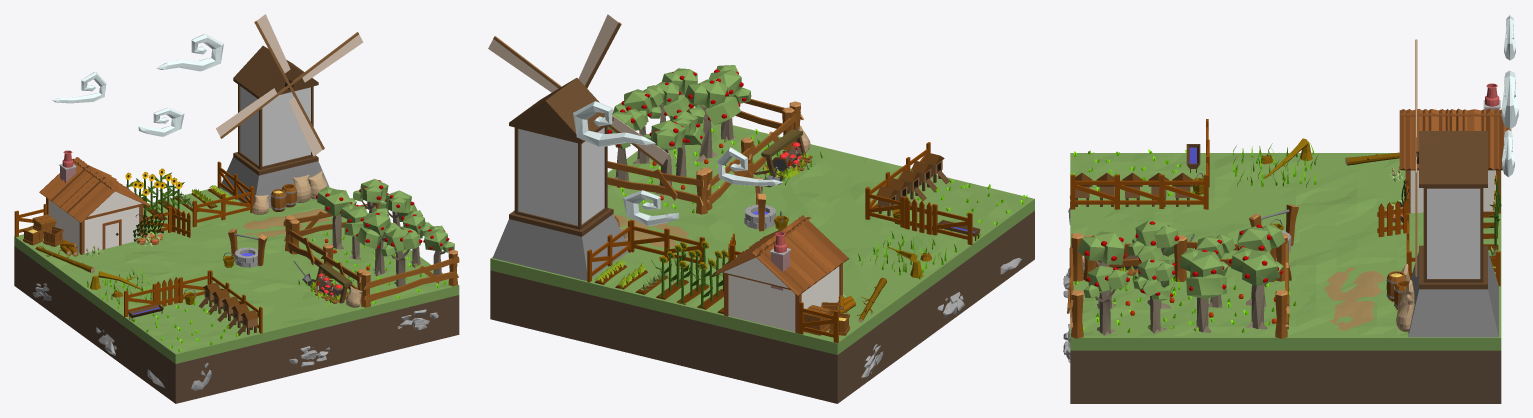
Rendered from Farm.fbx.
The picture shows the model from 3 angles, left to right: view 1: azimuth 30°, elevation 25°; view 2: azimuth 150°, elevation 25°; view 3: azimuth 270°, elevation 25°; orthographic projection. The views are drawn at different scales.
Parts seen in each view (by area): view 1: Cube, Cube (1), Terrain_Plane_Rock_Uneven_01, Building_Windmill_Tower_01, Building_Modular_Jetty_Walkway_Timber_Hut_Roof_02, Building_Windmill_Blades_Sails_01, Building_Modular_Jetty_Walkway_Timber_Hut_Base_01, Prop_Fence_Wooden_Large_01, Vegetation_Tree_Apple_03 (2), Vegetation_Tree_Apple_01 (5), Cloud_Wisp_02, Vegetation_Tree_Apple_01 (4) (+20 smaller); view 2: Cube, Cube (1), Terrain_Plane_Rock_Uneven_01, Building_Windmill_Tower_01, Building_Modular_Jetty_Walkway_Timber_Hut_Roof_02, Building_Modular_Jetty_Walkway_Timber_Hut_Base_01, Building_Windmill_Blades_Sails_01, Vegetation_Tree_Apple_03 (2), Prop_Fence_Wooden_Large_01 (1), Cloud_Wisp_02, Prop_Farm_Plot_01, Vegetation_Tree_Apple_01 (5) (+22 smaller); view 3: Terrain_Plane_Rock_Uneven_01, Cube, Cube (1), Building_Windmill_Tower_01, Building_Modular_Jetty_Walkway_Timber_Hut_Roof_02, Vegetation_Tree_Apple_02 (1), Terrain_Plane_Dirt_Uneven_01, Vegetation_Tree_Apple_01 (3), Vegetation_Tree_Apple_03 (2), Vegetation_Tree_Apple_03 (1), Vegetation_Tree_Apple_01 (2), Vegetation_Tree_Apple_01 (5) (+19 smaller).
Boxes of the visible parts, box(x1,y1,x2,y2) form: Cube: box(14, 246, 459, 403); Cube (1): box(14, 187, 459, 363); Terrain_Plane_Rock_Uneven_01: box(18, 190, 451, 353); Building_Windmill_Tower_01: box(221, 45, 329, 207); Building_Modular_Jetty_Walkway_Timber_Hut_Roof_02: box(39, 157, 149, 222); Building_Windmill_Blades_Sails_01: box(216, 14, 363, 156); Building_Modular_Jetty_Walkway_Timber_Hut_Base_01: box(46, 198, 143, 254); Prop_Fence_Wooden_Large_01: box(361, 250, 459, 307); Vegetation_Tree_Apple_03 (2): box(356, 208, 400, 276); Vegetation_Tree_Apple_01 (5): box(381, 228, 422, 287); Cloud_Wisp_02: box(156, 34, 223, 71); Vegetation_Tree_Apple_01 (4): box(316, 186, 356, 249); Cube: box(490, 211, 1034, 403); Cube (1): box(490, 125, 1034, 354); Terrain_Plane_Rock_Uneven_01: box(509, 119, 1031, 340); Building_Windmill_Tower_01: box(492, 78, 628, 280); Building_Modular_Jetty_Walkway_Timber_Hut_Roof_02: box(714, 215, 848, 295); Building_Modular_Jetty_Walkway_Timber_Hut_Base_01: box(724, 263, 842, 333); Building_Windmill_Blades_Sails_01: box(488, 14, 668, 166); Vegetation_Tree_Apple_03 (2): box(685, 79, 740, 161); Prop_Fence_Wooden_Large_01 (1): box(607, 161, 707, 214); Cloud_Wisp_02: box(573, 101, 655, 146); Prop_Farm_Plot_01: box(595, 264, 723, 314); Vegetation_Tree_Apple_01 (5): box(708, 65, 751, 142); Terrain_Plane_Rock_Uneven_01: box(1073, 152, 1498, 336); Cube: box(1070, 350, 1501, 403); Cube (1): box(1070, 153, 1501, 350); Building_Windmill_Tower_01: box(1408, 131, 1498, 337); Building_Modular_Jetty_Walkway_Timber_Hut_Roof_02: box(1399, 108, 1511, 170); Vegetation_Tree_Apple_02 (1): box(1180, 248, 1228, 332); Terrain_Plane_Dirt_Uneven_01: box(1324, 267, 1384, 330); Vegetation_Tree_Apple_01 (3): box(1229, 247, 1283, 329); Vegetation_Tree_Apple_03 (2): box(1128, 220, 1179, 308); Vegetation_Tree_Apple_03 (1): box(1133, 259, 1175, 333); Vegetation_Tree_Apple_01 (2): box(1083, 265, 1129, 336); Vegetation_Tree_Apple_01 (5): box(1077, 231, 1125, 308).
Bounding box in the file's own units: 12.04 × 8.65 × 11.05.
